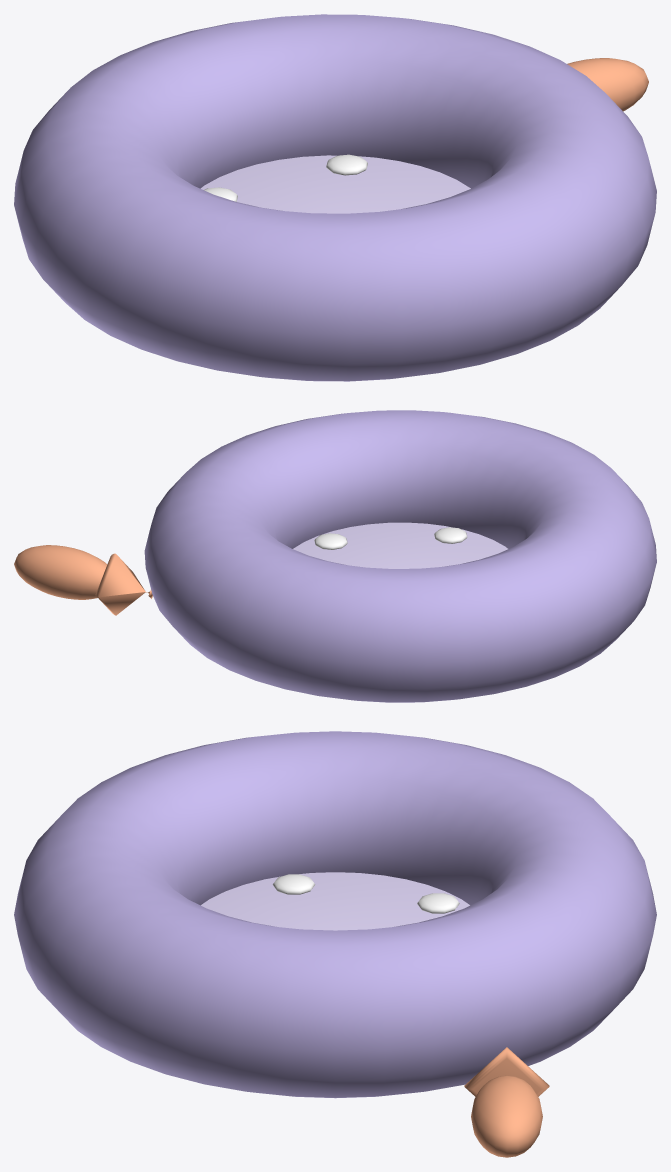
File: catbed.glb
The picture shows the model from 3 angles, top to bottom: view 1: azimuth 30°, elevation 25°; view 2: azimuth 150°, elevation 25°; view 3: azimuth 270°, elevation 25°; orthographic projection. The views are drawn at different scales.
Parts seen in each view (by area): view 1: rim, cushion, cffb38a, cffffff; view 2: rim, cushion, cffb38a, cffffff; view 3: rim, cushion, cffb38a, cffffff.
Part boxes in pixels (x1,y1,x2,y2): rim: (14,14,656,381); cushion: (200,155,470,213); cffb38a: (567,58,648,111); cffffff: (204,154,367,201); rim: (144,410,656,702); cushion: (293,522,507,568); cffb38a: (14,545,152,615); cffffff: (314,527,467,549); rim: (14,731,656,1098); cushion: (201,872,469,930); cffb38a: (464,1047,549,1157); cffffff: (272,874,459,913).
Size of the model in its own units: 1.82 by 0.395 by 1.5.
